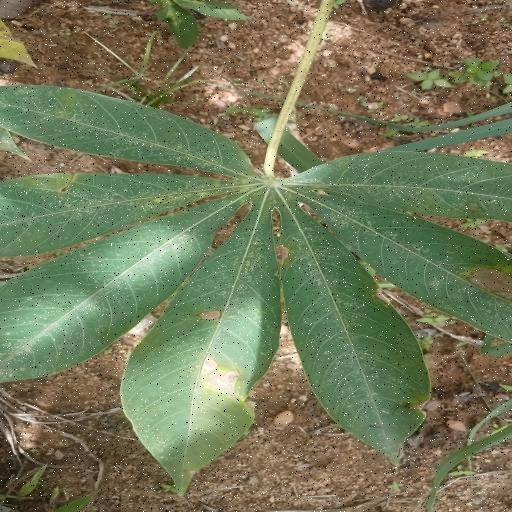Cassava_Brown_Leaf_Spot: (1, 82, 512, 494)
